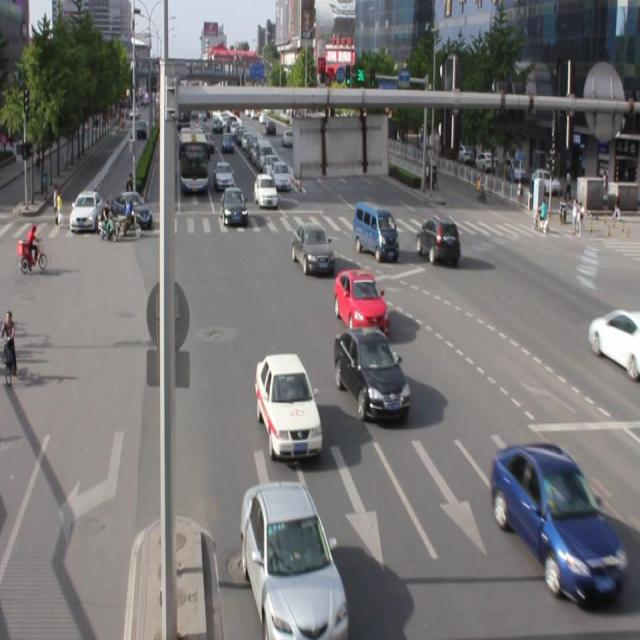car: (490, 440, 622, 602), (241, 477, 348, 640), (334, 324, 410, 420), (256, 351, 322, 458), (333, 266, 389, 338), (588, 307, 640, 376), (291, 222, 335, 277), (415, 214, 460, 265)
truck: (352, 200, 398, 258)
